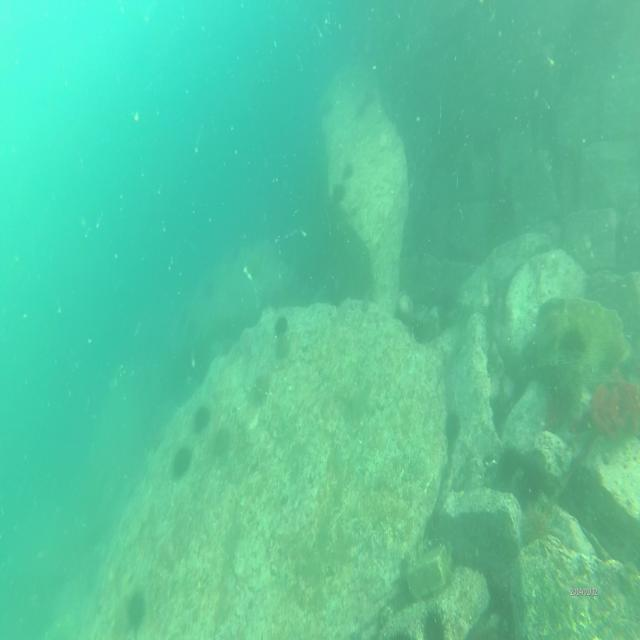echinus: (521, 501, 551, 547), (557, 325, 592, 362), (421, 601, 450, 640), (496, 440, 520, 486), (126, 589, 148, 635), (168, 445, 193, 484), (523, 448, 544, 492), (441, 404, 463, 446), (486, 387, 510, 423), (190, 400, 211, 440), (251, 371, 272, 407), (213, 425, 230, 463), (271, 313, 289, 342), (276, 334, 293, 363), (330, 179, 348, 206), (341, 159, 356, 181)
